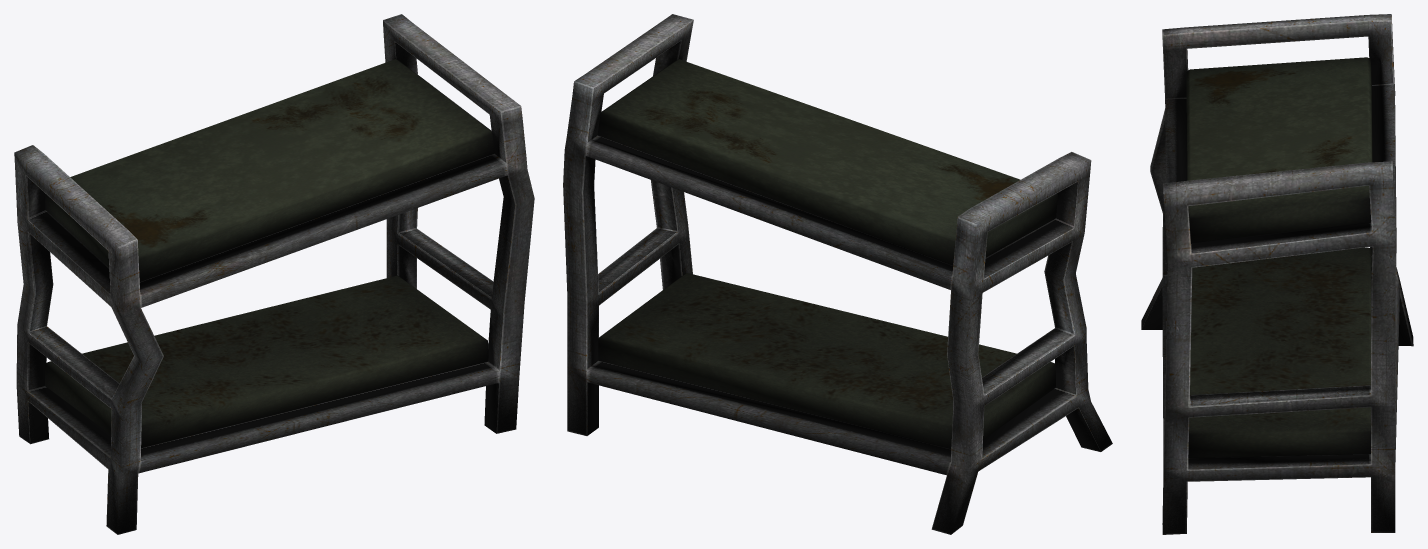
File: BunkBedsDamaged.fbx
3 renders of one model, left to right at view 1: azimuth 30°, elevation 25°; view 2: azimuth 150°, elevation 25°; view 3: azimuth 270°, elevation 25°, orthographic. The views are drawn at different scales.
Visible parts, largest first — view 1: Cube; view 2: Cube; view 3: Cube.
Boxes of the visible parts, x1,y1,x2,y2 form: Cube: (14,14,534,534); Cube: (563,14,1112,534); Cube: (1141,14,1413,534).
Size of the model in its own units: 1.52 by 1.15 by 0.782.
